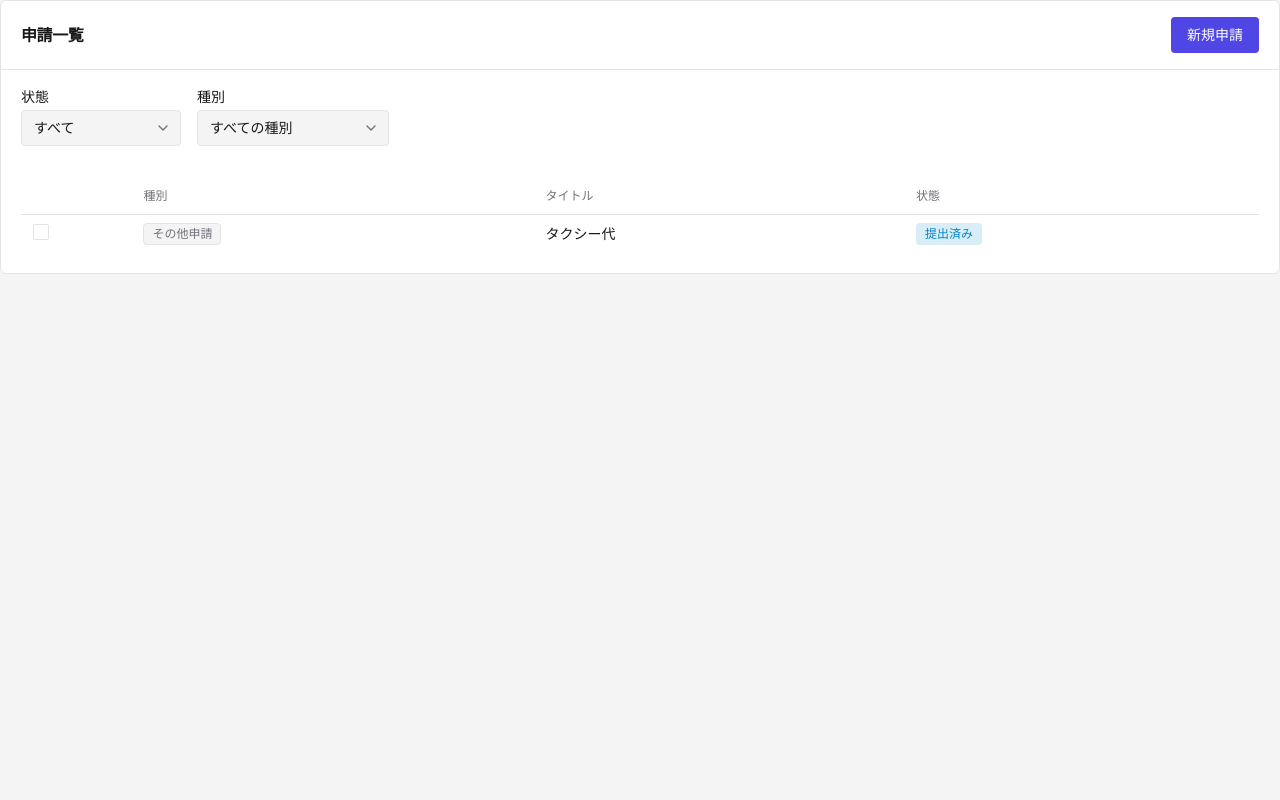
Test case: WorkflowRequestListPage › does not cancel and keeps the confirmation dialog open when no reason is entered
The image size is (1280, 800).
Click the checkbox named "タクシー代を選択" at (41, 232), box [33, 224, 49, 240]
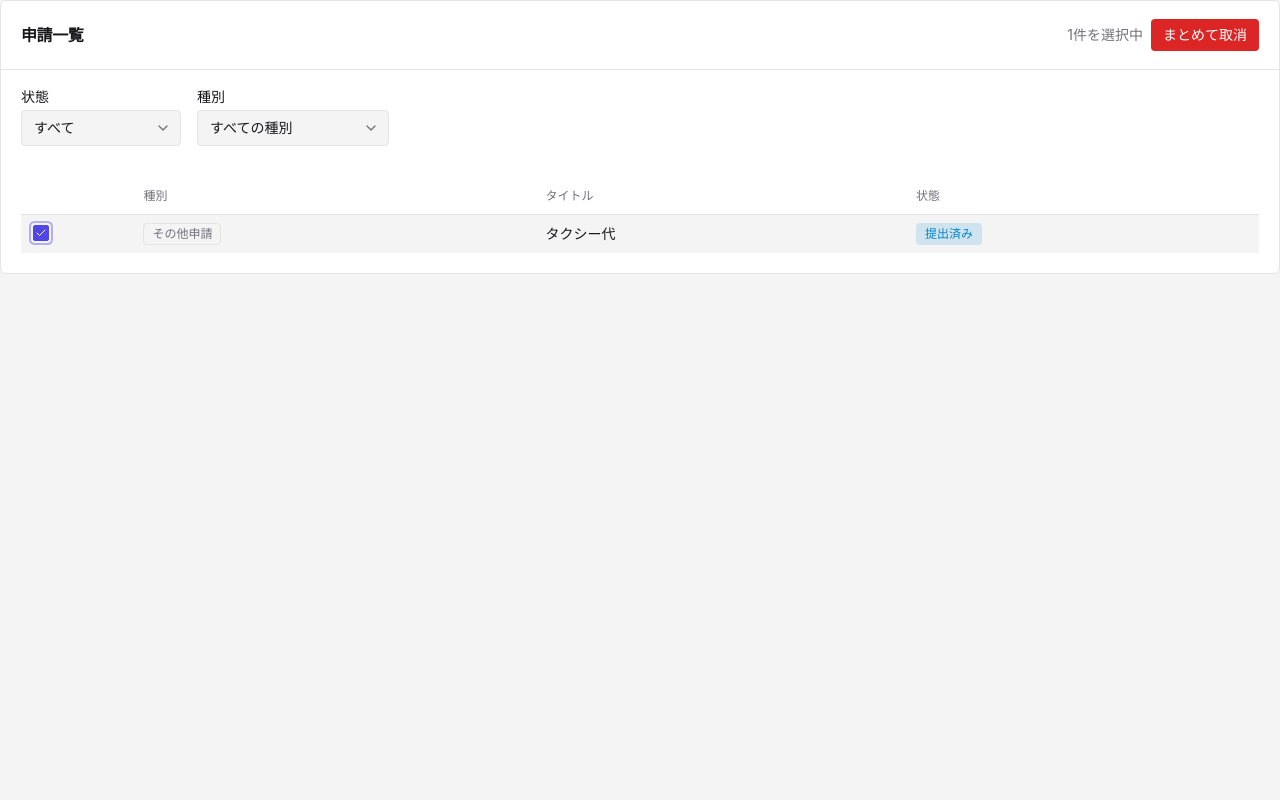
Click the button "まとめて取消" at (1205, 35), box [1151, 19, 1259, 51]
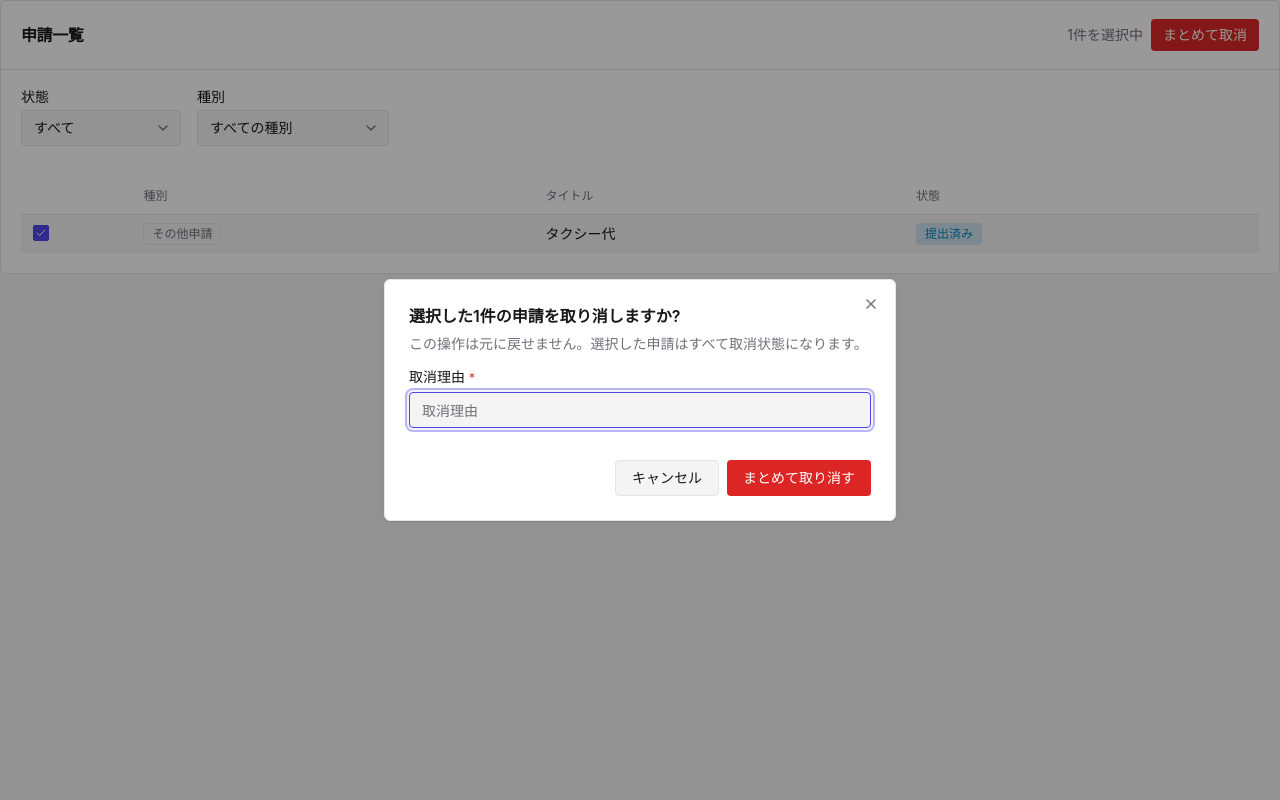
Result: the text "この操作は元に戻せません。選択した申請はすべて取消状態になります。" is shown at [409, 334, 871, 354]
Click the button "まとめて取り消す" at (799, 478), box [727, 460, 871, 496]
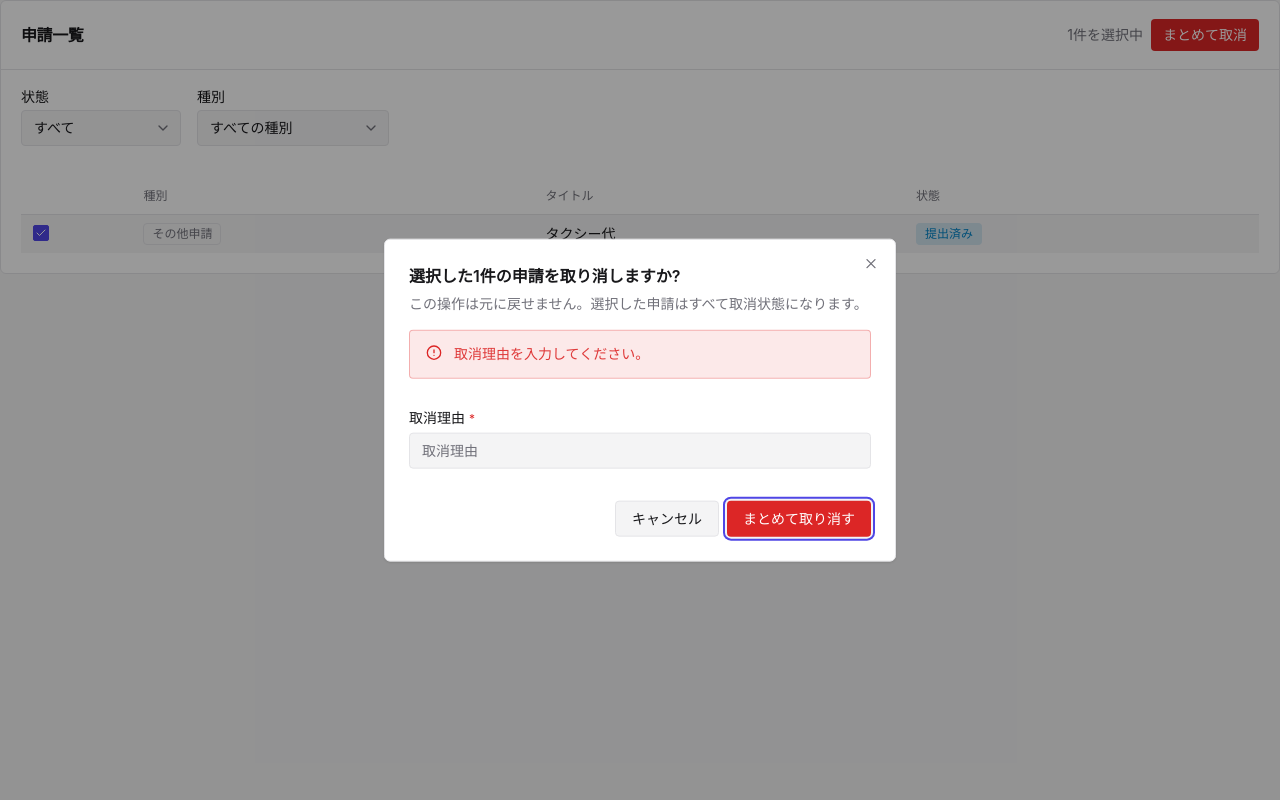
Result: the text "取消理由を入力してください。" is shown at [454, 343, 649, 365]
